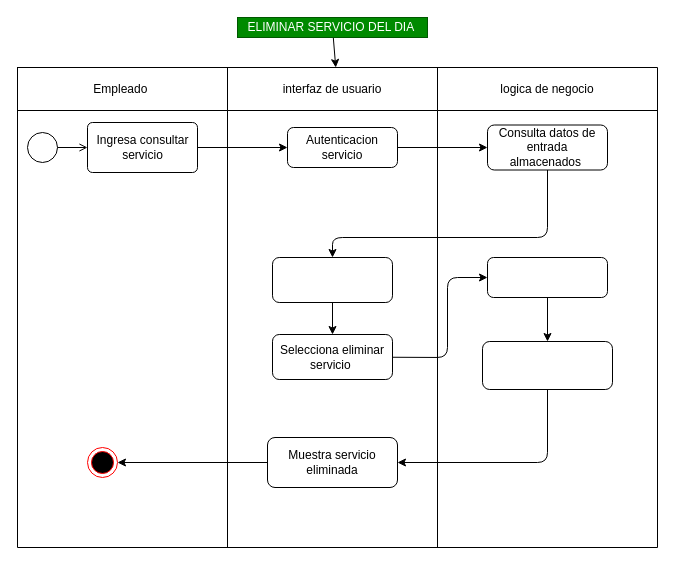
The diagram is 675 pixels wide and 565 high, and some of its shapes have lost their labels. The centre of each missing label's shape, as x and y in pixels:
"Elimina servicio almacenada" belongs at point (547, 365).
"Muestra datos de entrada" belongs at point (332, 279).
"Valida llave primaria servicio" belongs at point (547, 277).
